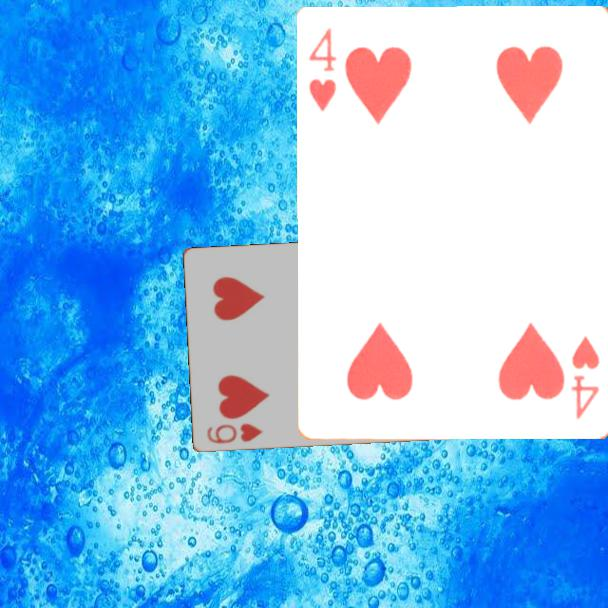h04: (568, 333, 603, 422), (306, 24, 340, 114)
h06: (203, 420, 265, 447)
